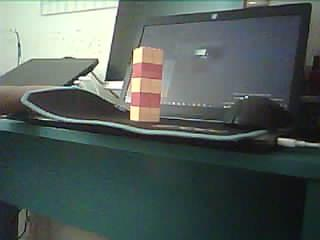lego: (130, 46, 163, 122)
